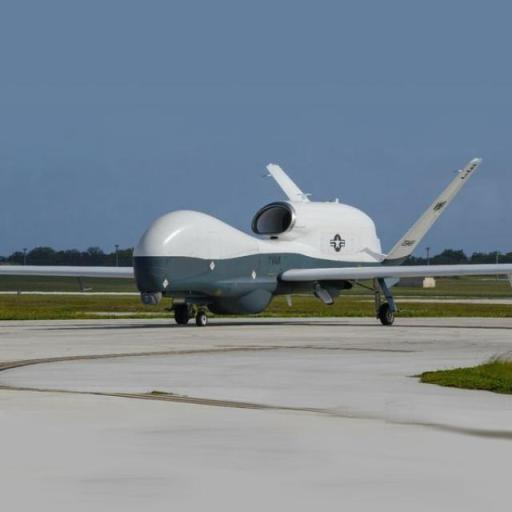uav: (0, 151, 509, 365)
